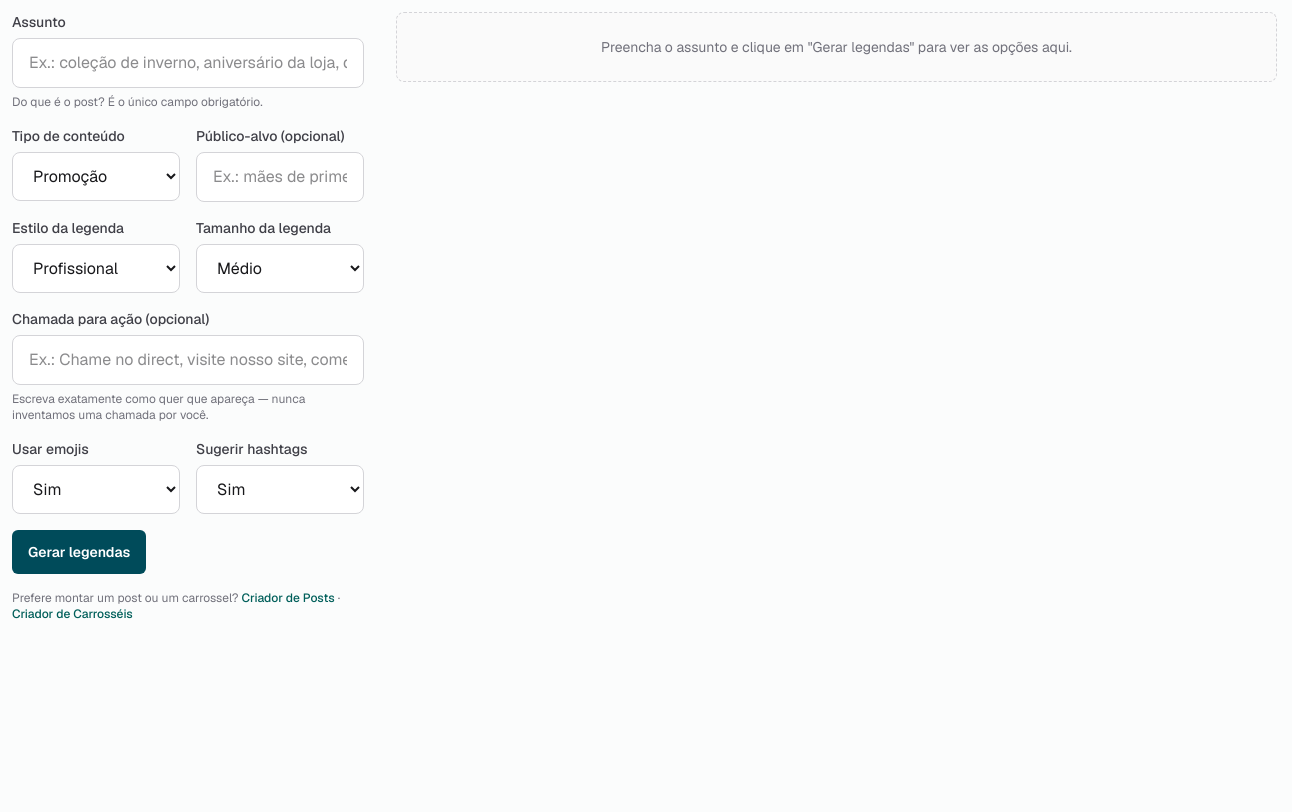
Scenario: CaptionGeneratorTool — geração (ETAPA 8/10) › exige um assunto antes de gerar
What coordinates should you click on to do the following:
click the button "Gerar legendas"
I would click on:
 (79, 552)
Its box is [12,530,146,574].
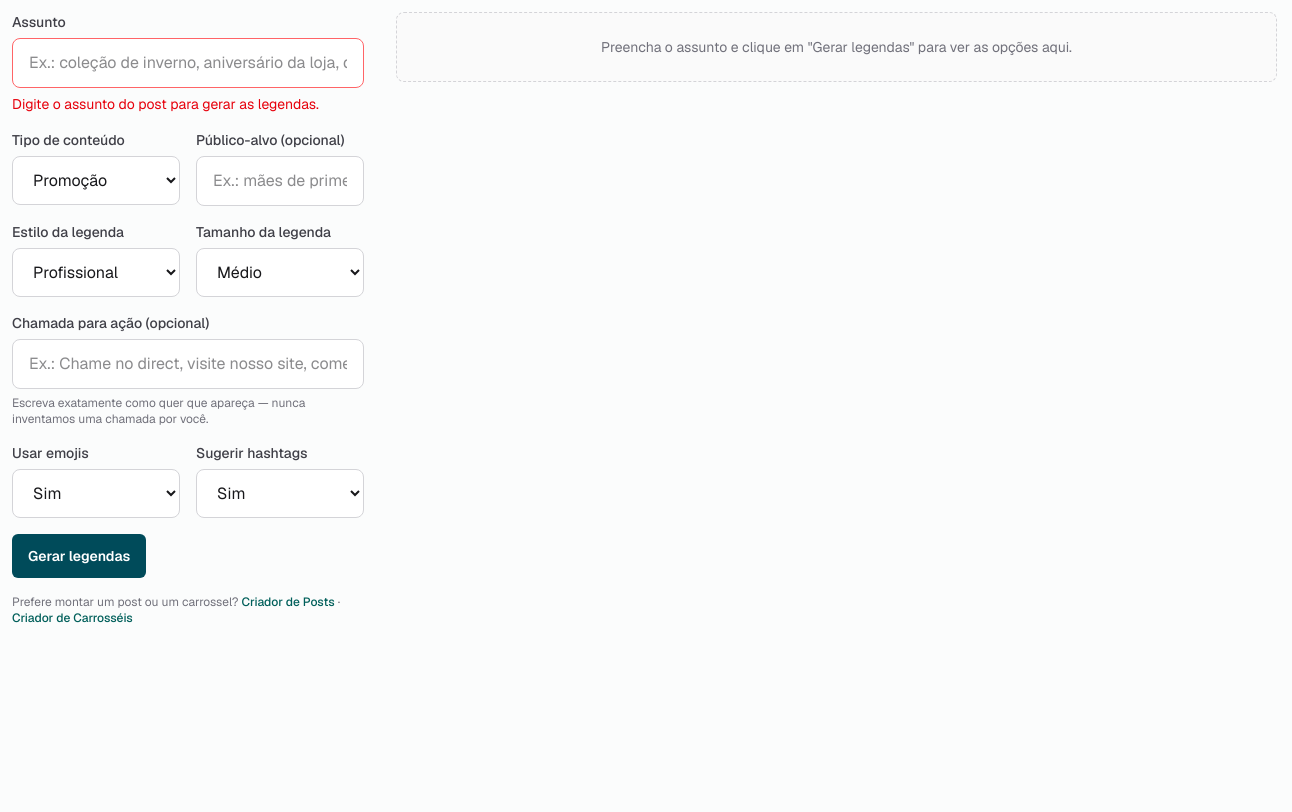
Result: the text "Digite o assunto do post para gerar as legendas." is shown at [12,94,364,114]
